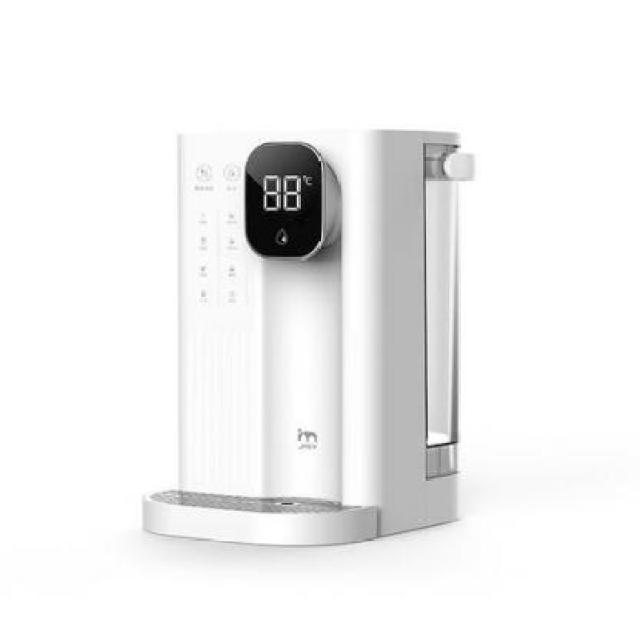cooler: (143, 124, 478, 550)
